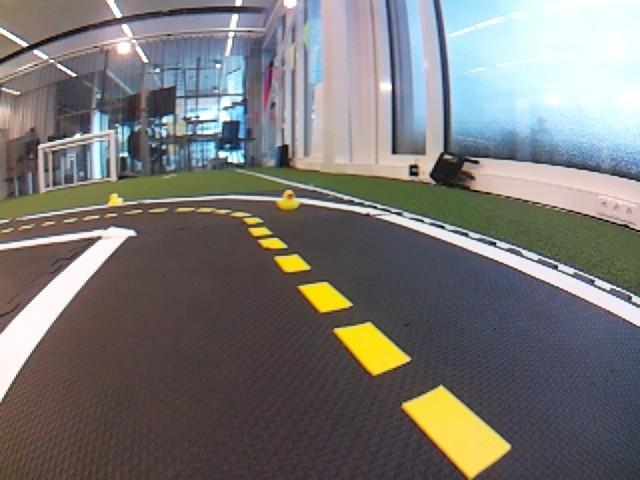Duckies: (276, 190, 300, 210), (106, 192, 124, 206)
